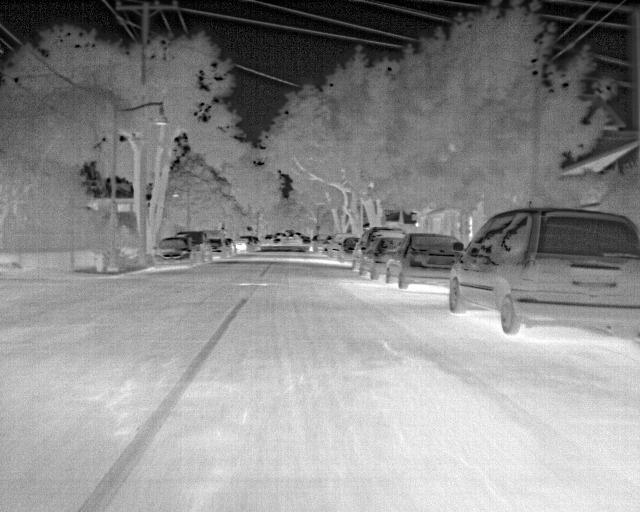bicycle: (449, 206, 639, 338), (384, 232, 466, 289), (347, 226, 407, 270), (359, 236, 403, 280), (153, 236, 191, 266), (175, 232, 210, 261), (337, 237, 361, 264), (307, 234, 329, 254), (209, 236, 228, 259), (329, 236, 343, 258), (238, 234, 255, 252), (244, 235, 261, 252), (224, 236, 236, 257)
